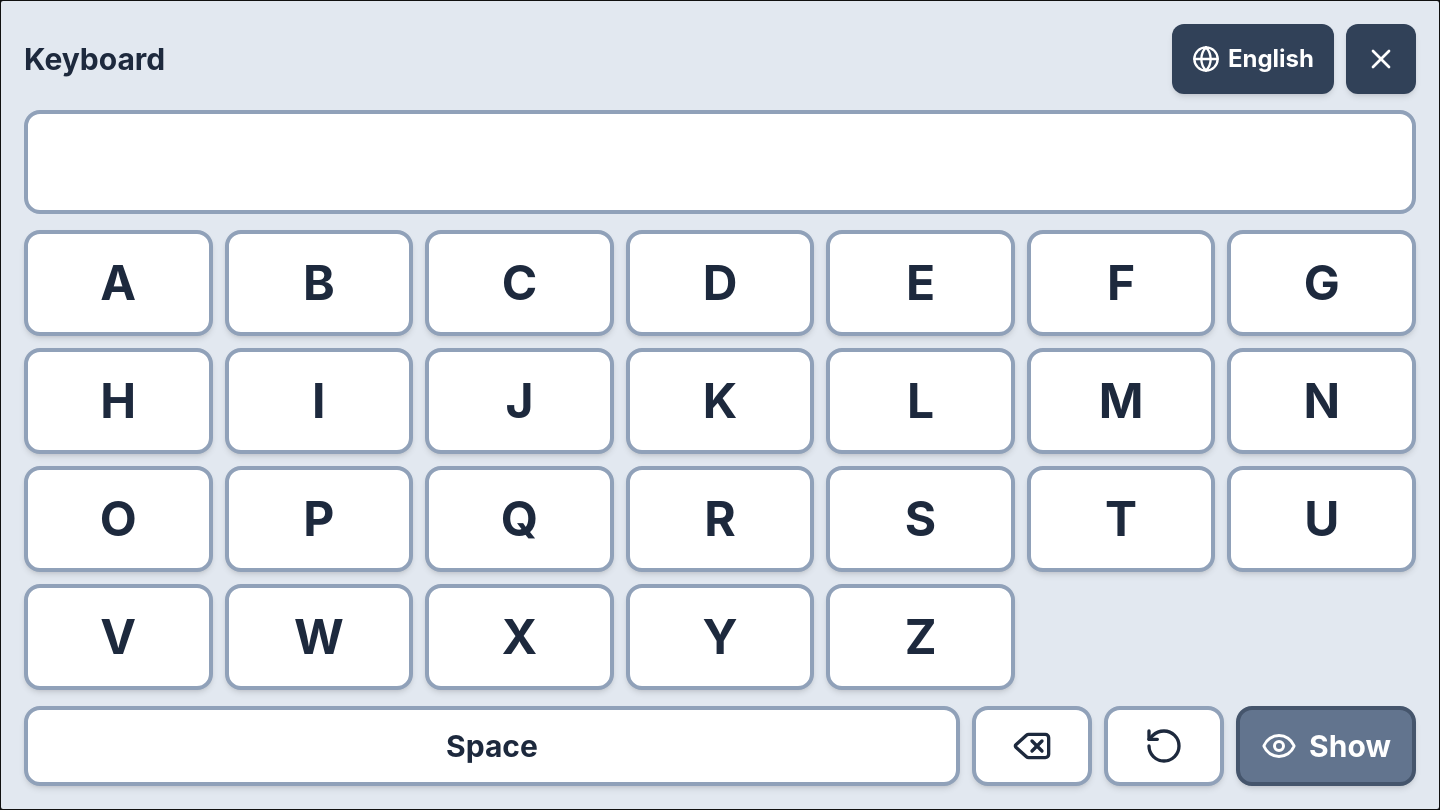
KeyboardScreen – User Story 4 and edge cases › Show becomes enabled after typing at least one character
Expected: the button "Show" is disabled, [1236,706,1416,786]
Click the button "A": (118, 283) [24,230,213,336]
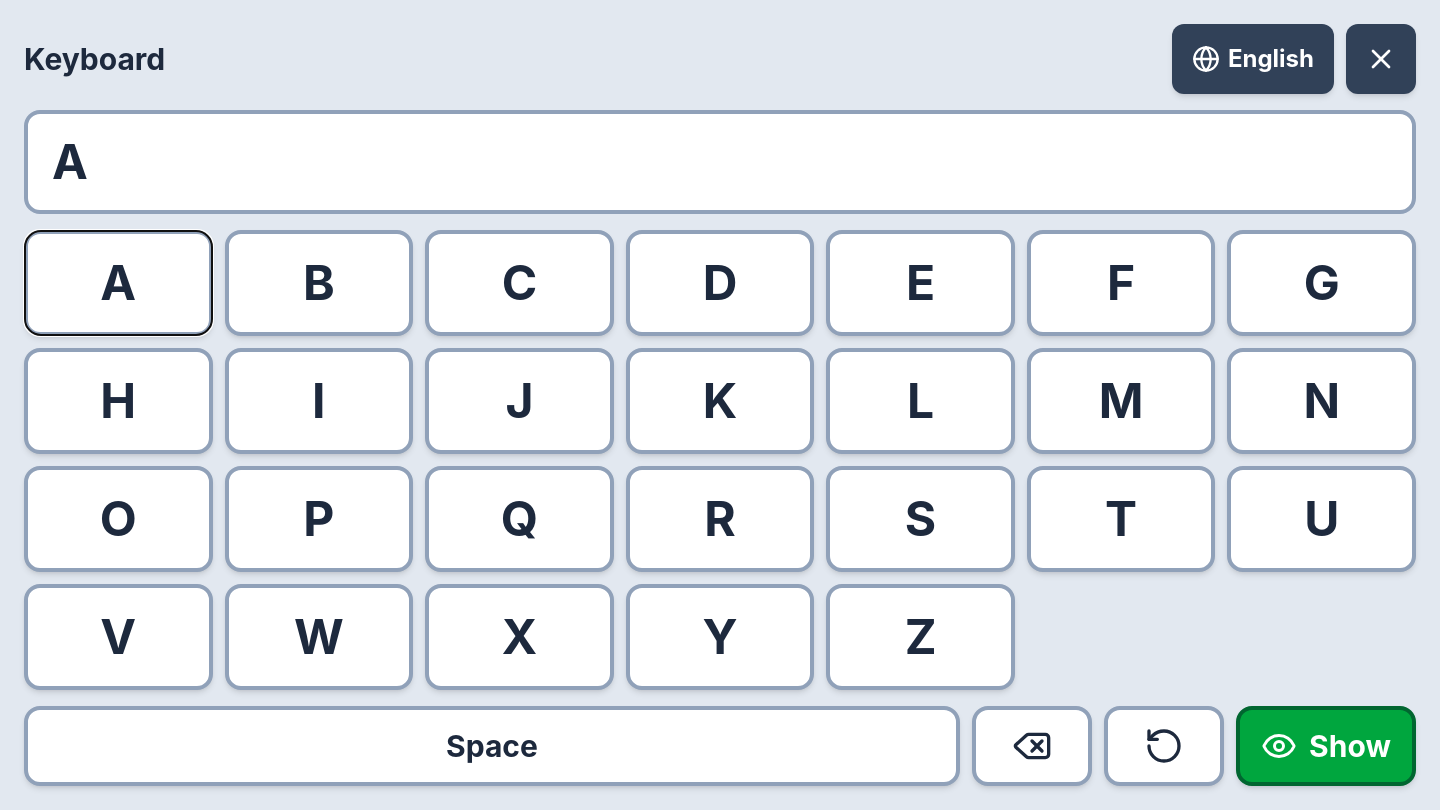
Result: the button "Show" is enabled at [1236,706,1416,786]
